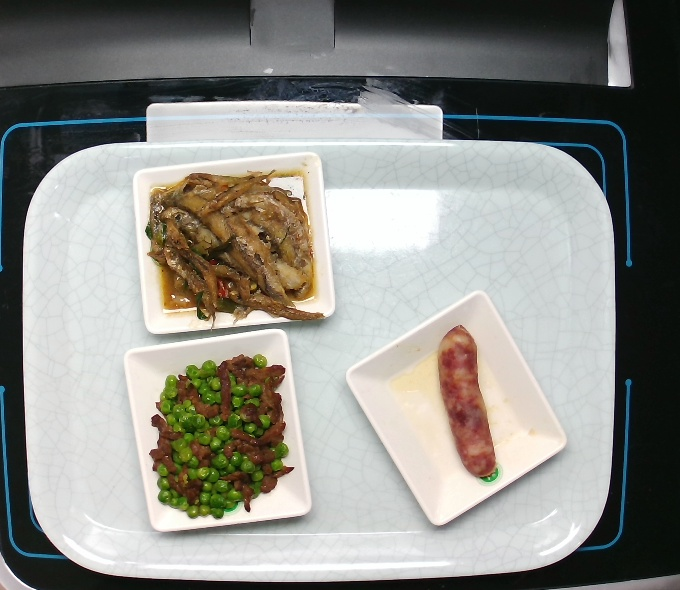wcq-CanDouNiuRou: (144, 346, 303, 521)
wcq-XiangChang: (429, 319, 510, 487)
wcq-XiaoJiYu: (143, 168, 333, 328)
